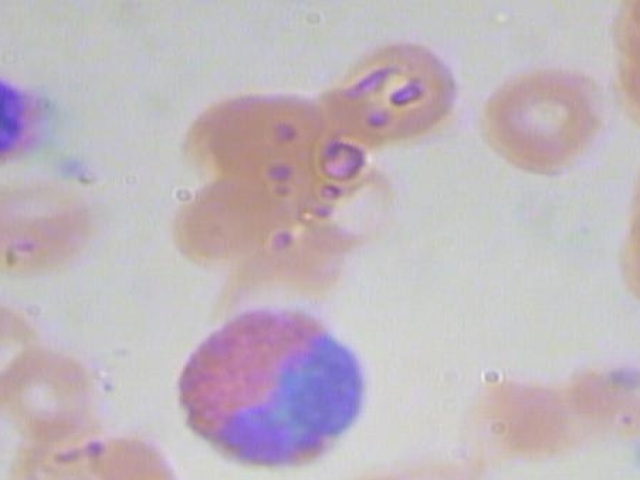Platelets: (48, 144, 101, 181), (599, 355, 640, 399), (624, 432, 640, 476)
RBC: (180, 66, 335, 192), (128, 165, 283, 291), (467, 61, 622, 186), (314, 25, 469, 150), (436, 366, 572, 475), (0, 162, 111, 287), (0, 330, 107, 441), (0, 426, 185, 480), (600, 192, 640, 317), (603, 33, 640, 158), (624, 107, 640, 232), (0, 370, 1, 480), (619, 476, 640, 480)
WBC: (165, 294, 378, 474), (0, 45, 60, 178)
